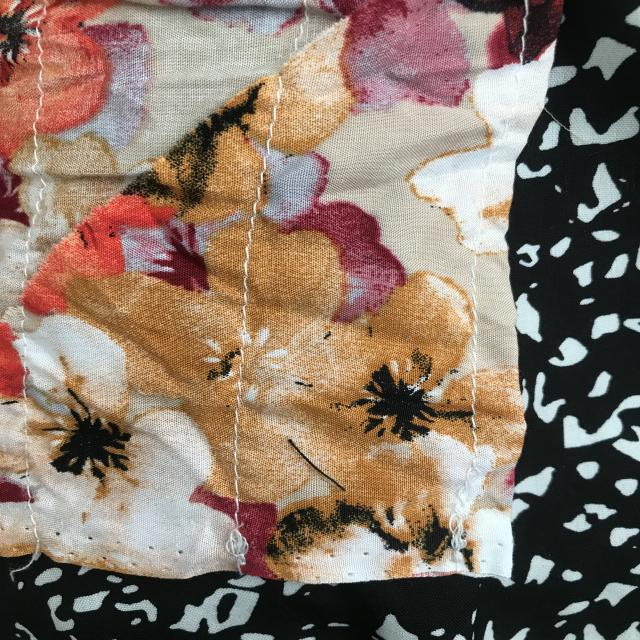good: (218, 378, 252, 499), (232, 218, 263, 334), (261, 94, 290, 163)
